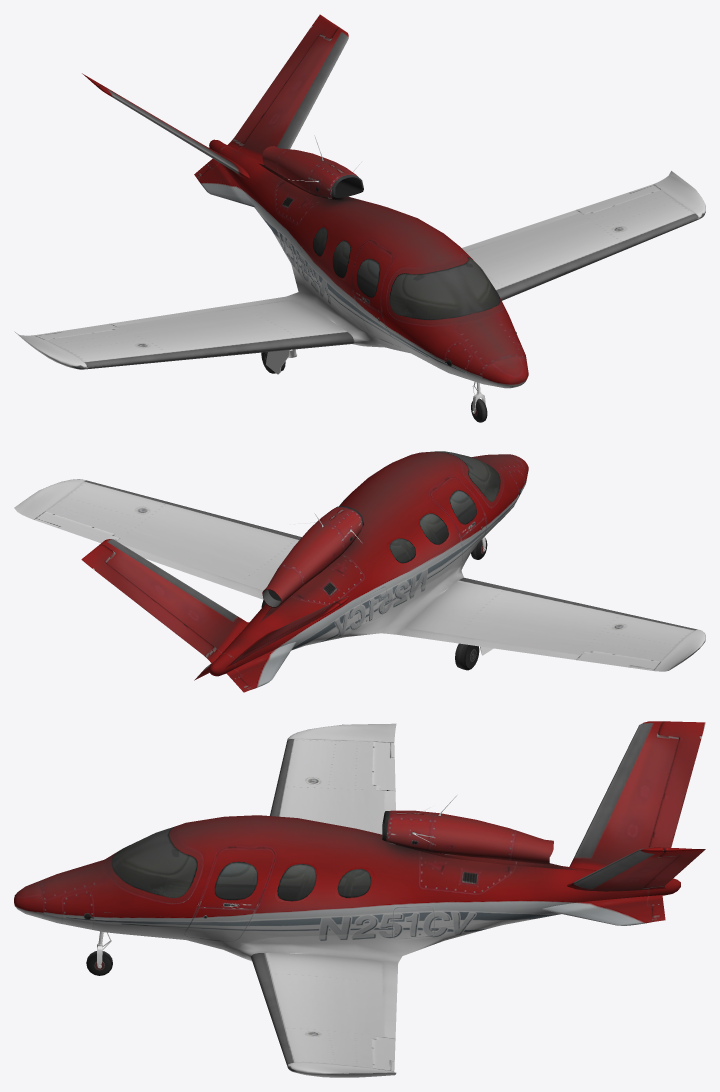
File: cirrusthejet.fbx
3 renders of one model, top to bottom at view 1: azimuth 30°, elevation 25°; view 2: azimuth 150°, elevation 25°; view 3: azimuth 270°, elevation 25°, orthographic. The views are drawn at different scales.
Visible parts, largest first — view 1: fuse; view 2: fuse, gear_wheel; view 3: fuse.
Boxes of the visible parts, <box> form: fuse: <box>14,14,705,388</box>; fuse: <box>14,451,705,692</box>; gear_wheel: <box>261,600,479,670</box>; fuse: <box>14,721,705,1077</box>.
Size of the model in its own units: 1167 by 307 by 977.
